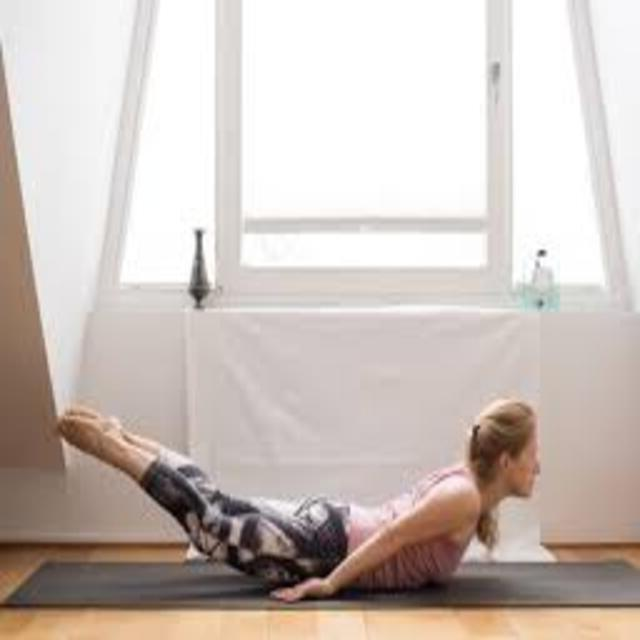Locust_Pose: (53, 398, 542, 602)
